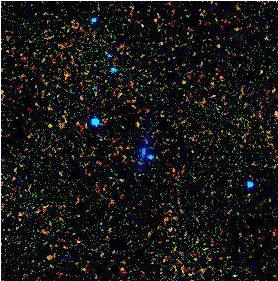star: (133, 144, 163, 174)
